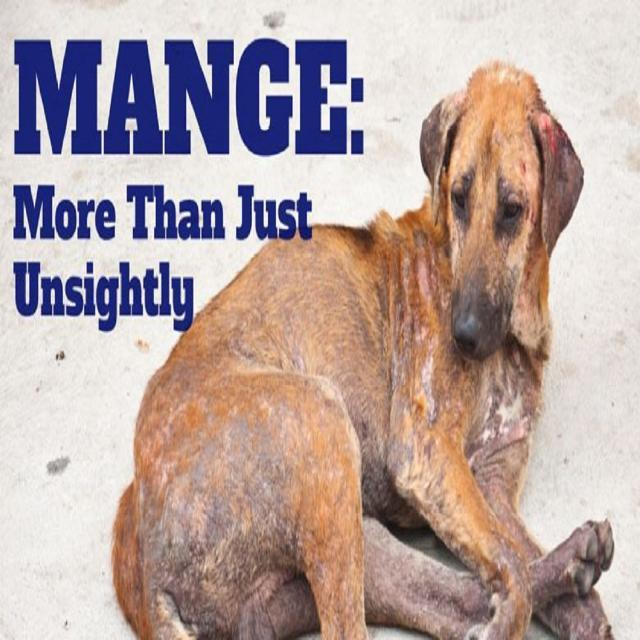mange: (210, 440, 282, 560), (178, 542, 250, 630), (160, 470, 216, 576), (389, 424, 451, 512), (391, 307, 437, 417), (356, 408, 392, 484), (473, 388, 528, 434), (394, 248, 436, 306)
